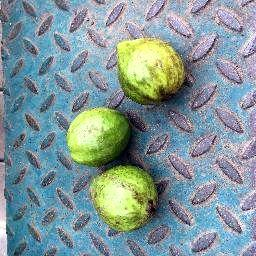guava: (116, 35, 189, 107), (89, 164, 160, 233), (66, 107, 134, 167)
